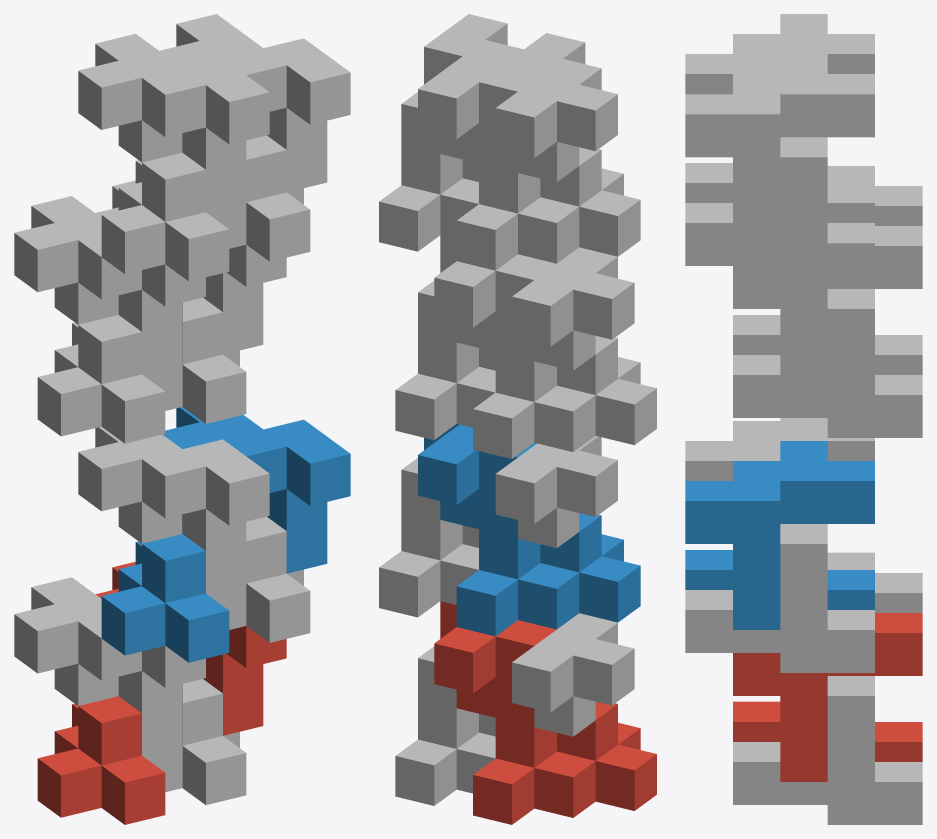
File: tiling.obj
3 views of the same model, side by side, from view 1: azimuth 30°, elevation 25°; view 2: azimuth 150°, elevation 25°; view 3: azimuth 270°, elevation 25° (orthographic). The views are drawn at different scales.
Parts seen in each view (by area): view 1: copy_2_domain_4, copy_2_domain_2, copy_2_domain_1, copy_2_domain_3, copy_2_domain_8, copy_2_domain_6, copy_1_domain_2, copy_1_domain_4, copy_1_domain_1, copy_1_domain_3, copy_1_domain_8, copy_1_domain_6 (+4 smaller); view 2: copy_1_domain_1, copy_1_domain_4, copy_1_domain_3, copy_1_domain_2, copy_2_domain_4, copy_2_domain_8, copy_2_domain_3, copy_2_domain_1, copy_2_domain_2, copy_1_domain_5, copy_1_domain_6, copy_1_domain_7 (+4 smaller); view 3: copy_2_domain_8, copy_2_domain_6, copy_1_domain_8, copy_1_domain_5, copy_1_domain_7, copy_1_domain_6, copy_2_domain_5, copy_2_domain_7, copy_2_domain_4, copy_2_domain_2, copy_1_domain_1, copy_1_domain_2 (+4 smaller).
Part boxes in pixels (bbox=[...]): copy_2_domain_4: bbox=[78, 33, 269, 211]; copy_2_domain_2: bbox=[78, 426, 269, 593]; copy_2_domain_1: bbox=[14, 577, 205, 755]; copy_2_domain_3: bbox=[14, 196, 205, 374]; copy_2_domain_8: bbox=[159, 14, 350, 192]; copy_2_domain_6: bbox=[162, 407, 350, 573]; copy_1_domain_2: bbox=[101, 514, 229, 662]; copy_1_domain_4: bbox=[101, 133, 229, 281]; copy_1_domain_1: bbox=[37, 696, 165, 824]; copy_1_domain_3: bbox=[37, 315, 165, 443]; copy_1_domain_8: bbox=[206, 135, 310, 261]; copy_1_domain_6: bbox=[206, 516, 310, 642]; copy_1_domain_1: bbox=[473, 677, 656, 824]; copy_1_domain_4: bbox=[456, 123, 640, 270]; copy_1_domain_3: bbox=[473, 311, 656, 458]; copy_1_domain_2: bbox=[456, 488, 640, 636]; copy_2_domain_4: bbox=[495, 33, 617, 182]; copy_2_domain_8: bbox=[418, 14, 539, 163]; copy_2_domain_3: bbox=[512, 247, 634, 370]; copy_2_domain_1: bbox=[512, 613, 634, 736]; copy_2_domain_2: bbox=[495, 436, 617, 548]; copy_1_domain_5: bbox=[395, 646, 495, 805]; copy_1_domain_6: bbox=[379, 458, 478, 617]; copy_1_domain_7: bbox=[395, 280, 495, 439]; copy_2_domain_8: bbox=[685, 54, 874, 243]; copy_2_domain_6: bbox=[685, 441, 874, 629]; copy_1_domain_8: bbox=[685, 137, 874, 286]; copy_1_domain_5: bbox=[733, 676, 922, 824]; copy_1_domain_7: bbox=[733, 289, 922, 437]; copy_1_domain_6: bbox=[685, 524, 874, 672]; copy_2_domain_5: bbox=[733, 613, 922, 781]; copy_2_domain_7: bbox=[733, 226, 922, 394]; copy_2_domain_4: bbox=[685, 14, 874, 94]; copy_2_domain_2: bbox=[685, 418, 874, 480]; copy_1_domain_1: bbox=[733, 701, 922, 761]; copy_1_domain_2: bbox=[685, 550, 874, 609].
Bounding box in the file's own units: 6 × 17 × 5.
